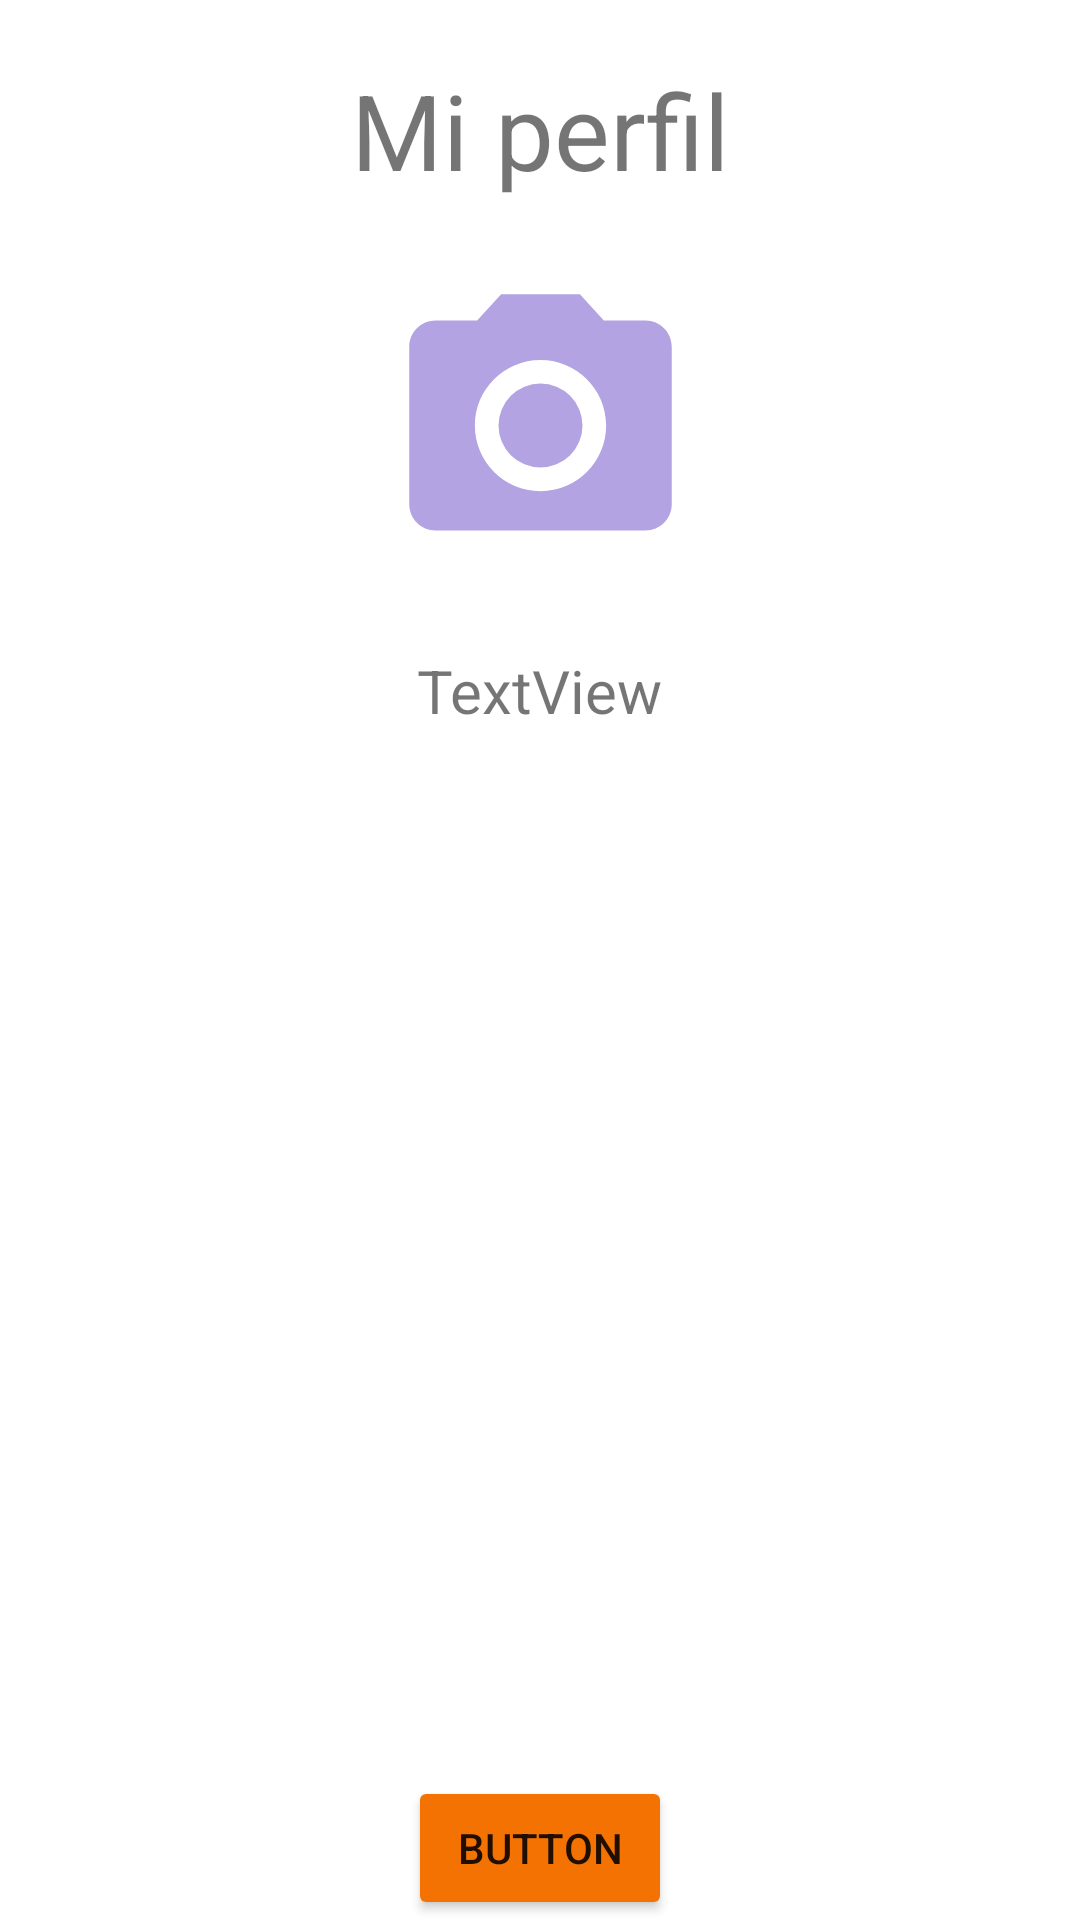

Screen size 1080px×1920px. Icon name, then its box in pixels as [x1=x1, y1=y1, x2=x2, y2=y2]:
camera moradito claro: [x1=409, y1=294, x2=672, y2=531]
